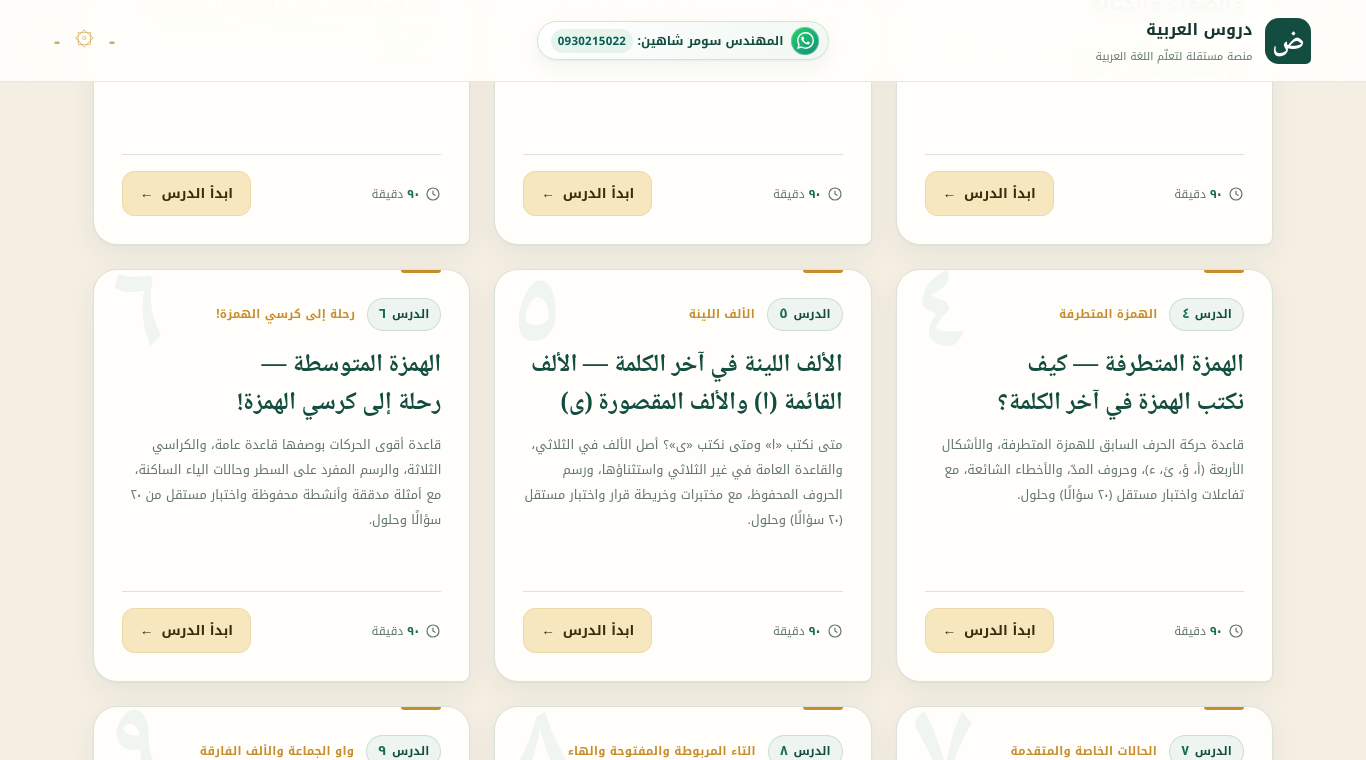
Scenario: spelling 5 — التسجيل والمسار وعرض المصدر › يظهر بعد الدرس الرابع في قسم الإملاء، ويُفتح برابط ثابت ويعود إلى القسم
(page scrolled)
What coordinates should you click on to do the following:
click the 4th link
I would click on:
 (687, 365)
Its box is x1=531 y1=344 x2=843 y2=425.
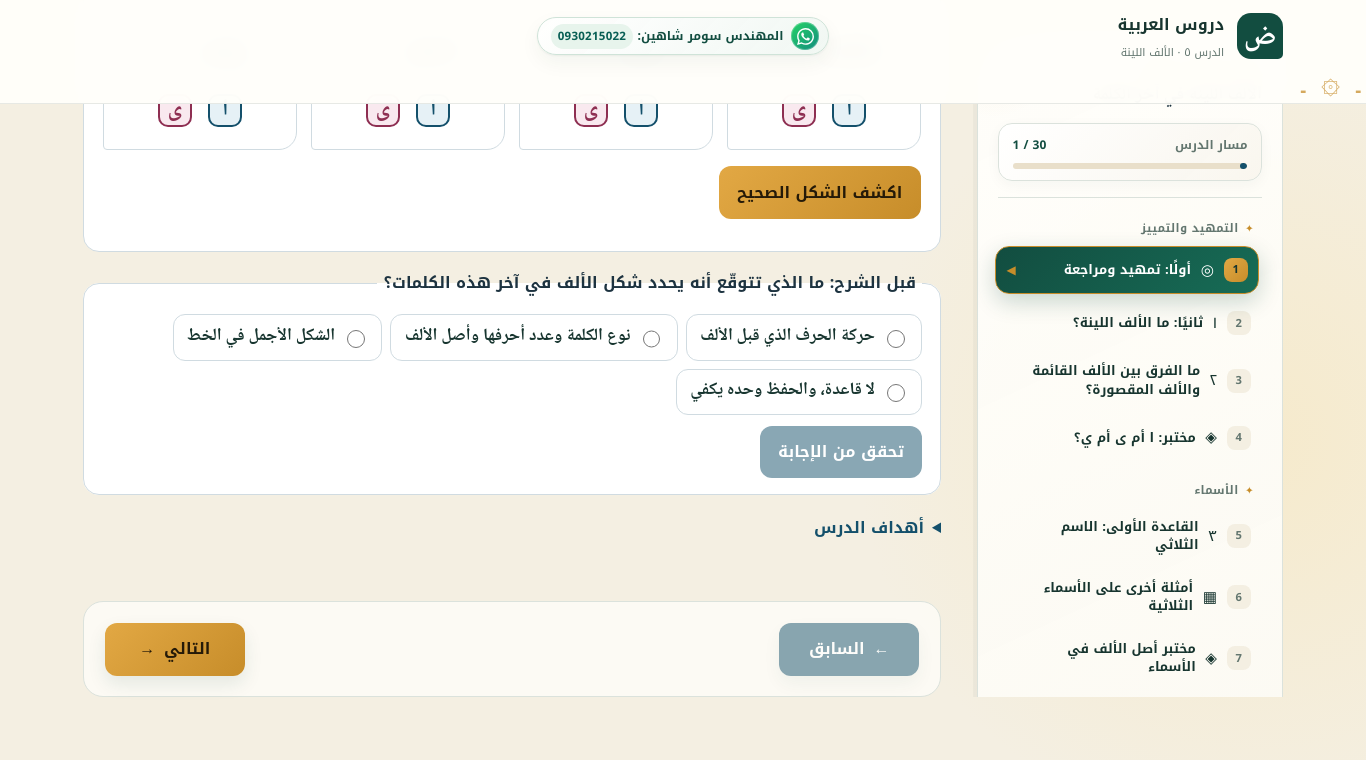
Expected: the button "← السابق" is disabled, x1=779 y1=623 x2=919 y2=676
What coordinates should you click on to do the following:
click the button "التالي →"
I would click on:
 (175, 649)
Its box is x1=105 y1=623 x2=245 y2=676.
(page scrolled)
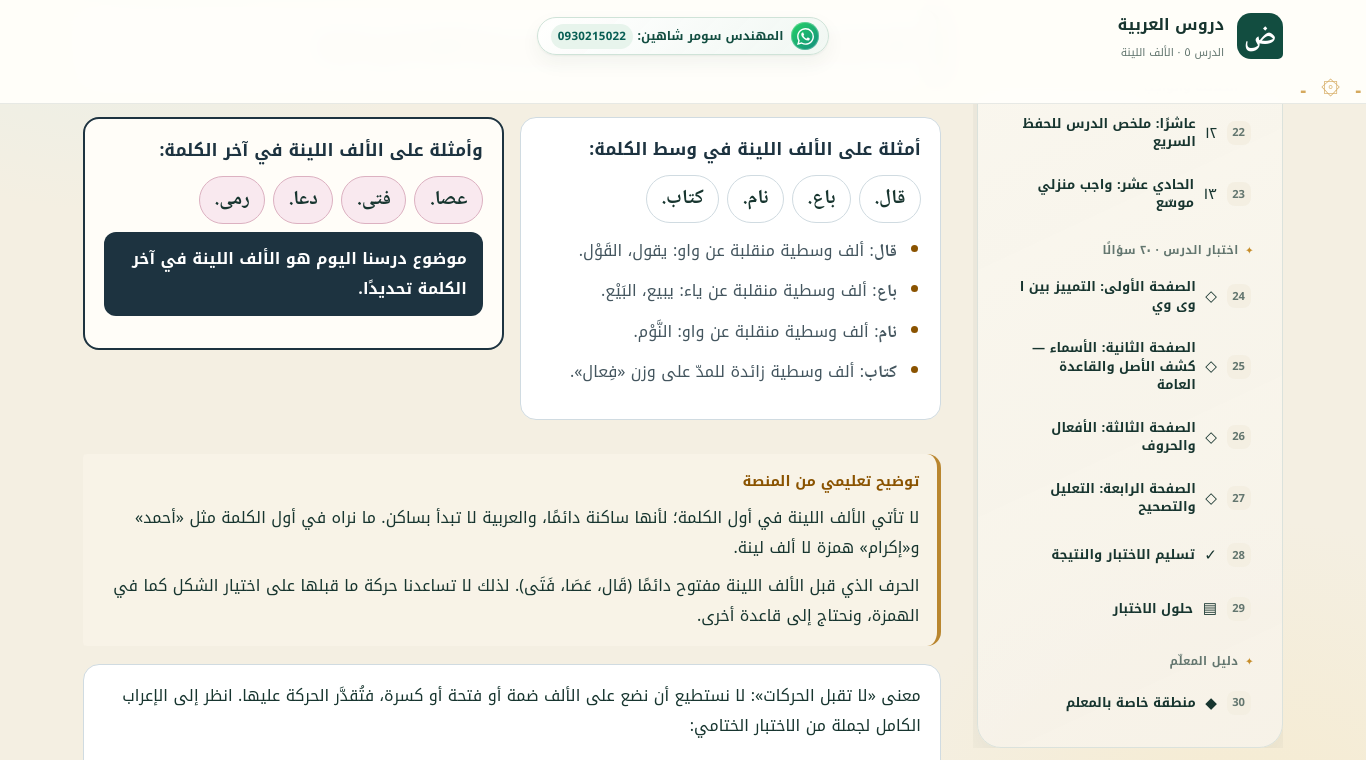
What coordinates should you click on to do the following:
click the button "30 ◆ منطقة خاصة بالمعلم"
I would click on:
 (1130, 703)
Its box is x1=998 y1=679 x2=1262 y2=727.
(page scrolled)
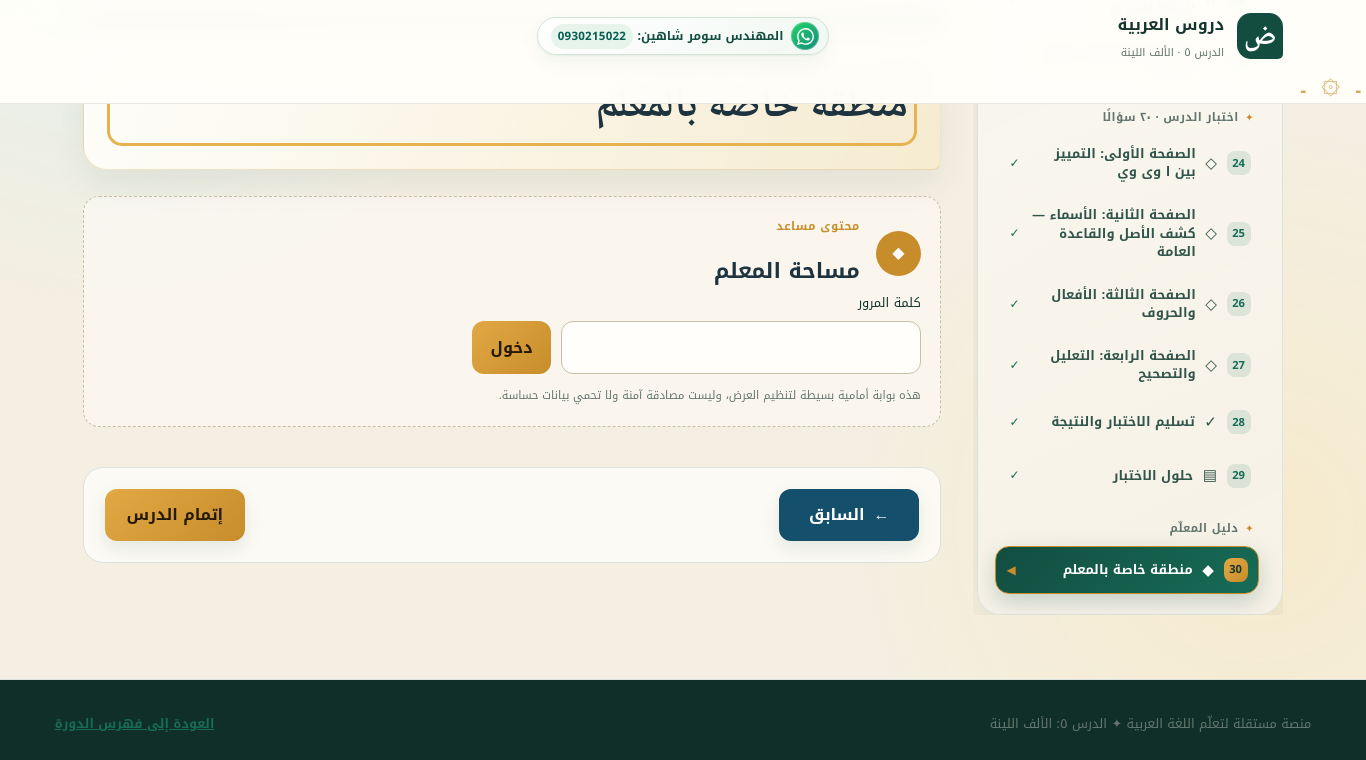
What coordinates should you click on to do the following:
click the button "إتمام الدرس"
I would click on:
 (175, 515)
Its box is x1=105 y1=489 x2=245 y2=541.
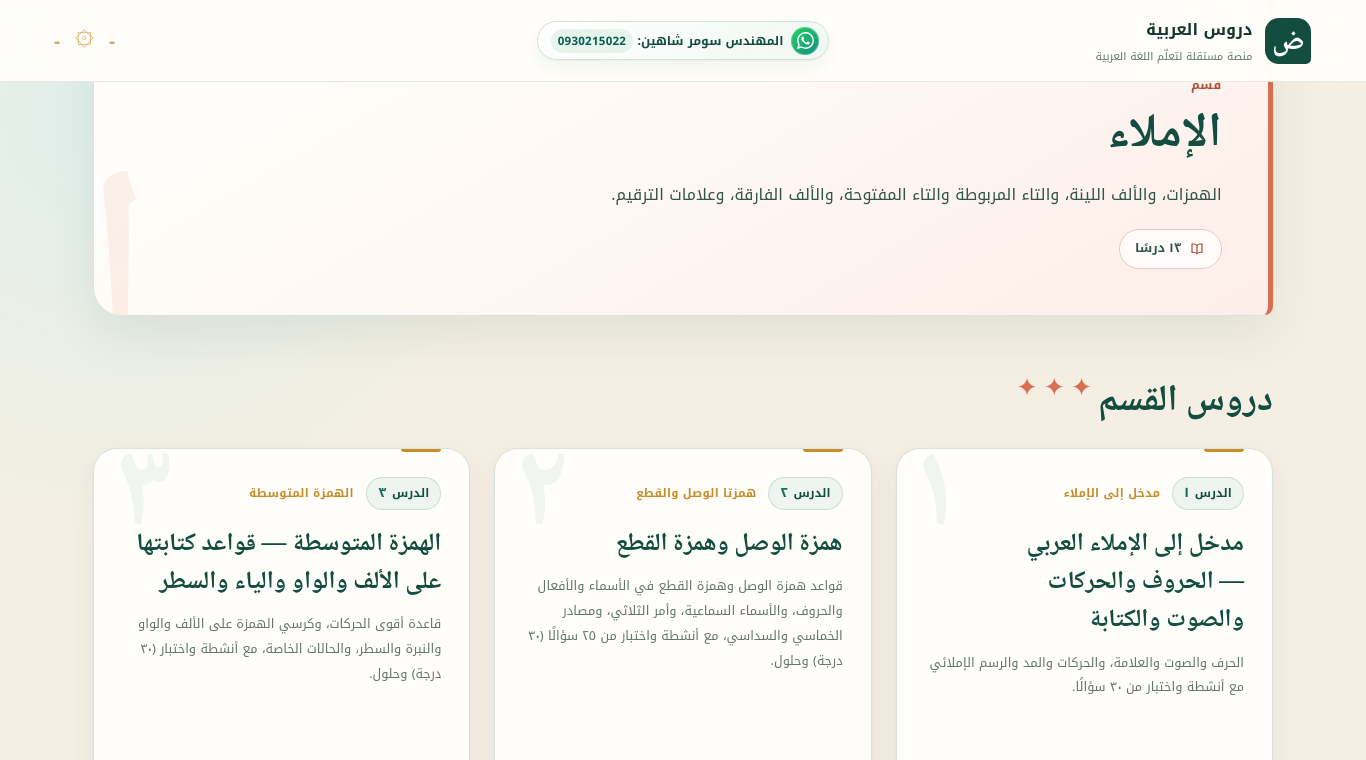
Expected: the heading "الإملاء" is shown, x1=1107 y1=95 x2=1222 y2=176
